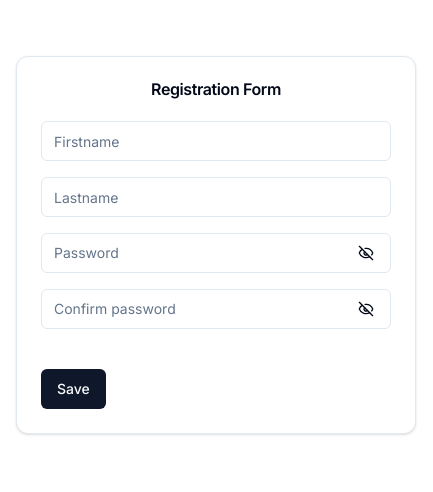
Test: Register Component › should show validation errors when submitting empty fields
Click the button "Save". click: click(73, 389)
box: x1=41 y1=369 x2=106 y2=409
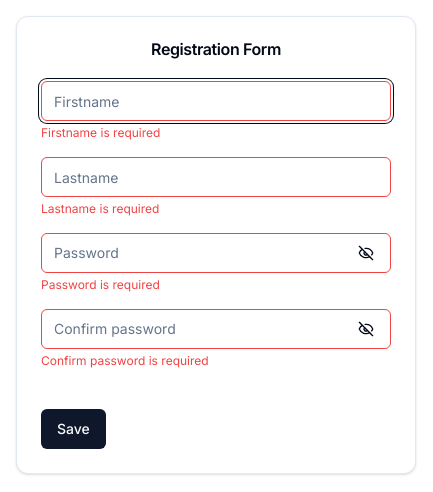
Now the text "Firstname is required" is shown, box x1=41 y1=125 x2=160 y2=140
Now the text "Lastname is required" is shown, box x1=41 y1=201 x2=159 y2=216
Now the text "Password is required" is shown, box x1=41 y1=277 x2=160 y2=292
